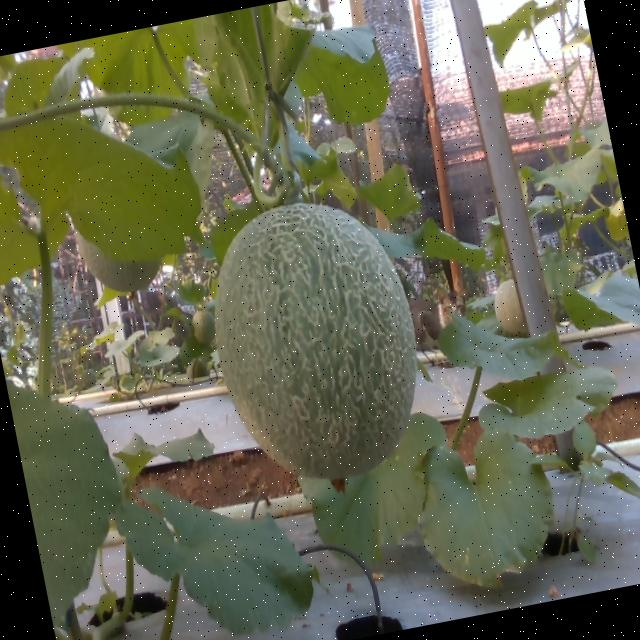melon: (217, 203, 418, 478)
